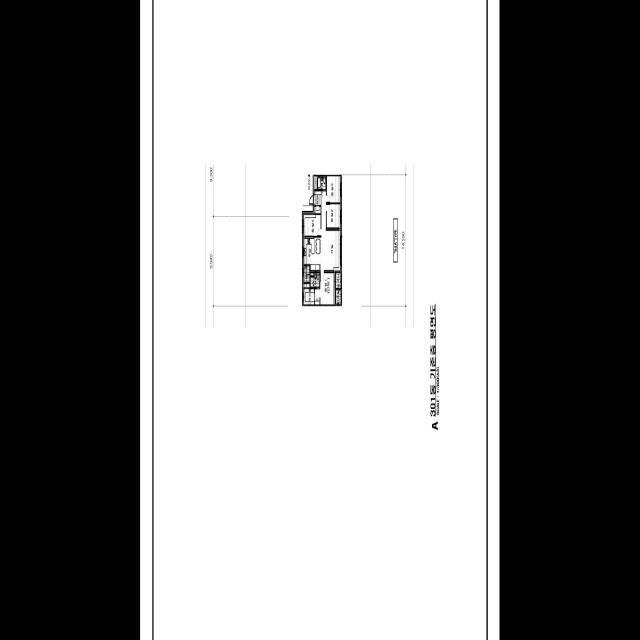background: (140, 0, 500, 640)
space_balconi: (336, 272, 341, 287)
space_bedroom: (315, 272, 335, 304), (304, 215, 321, 235), (327, 176, 340, 202), (327, 204, 340, 227)
space_dressroom: (304, 289, 314, 304)
space_elevator_hall: (302, 174, 313, 210)
space_front: (314, 191, 321, 213)
space_kitchen: (304, 237, 321, 270)
space_living_room: (321, 191, 340, 270)
space_multipurpose_space: (304, 266, 310, 282)
space_other: (314, 176, 317, 189), (304, 283, 310, 287), (311, 273, 313, 275)
space_outdoor_room: (336, 289, 341, 303)
space_toilet: (311, 273, 320, 287), (318, 176, 326, 189)
